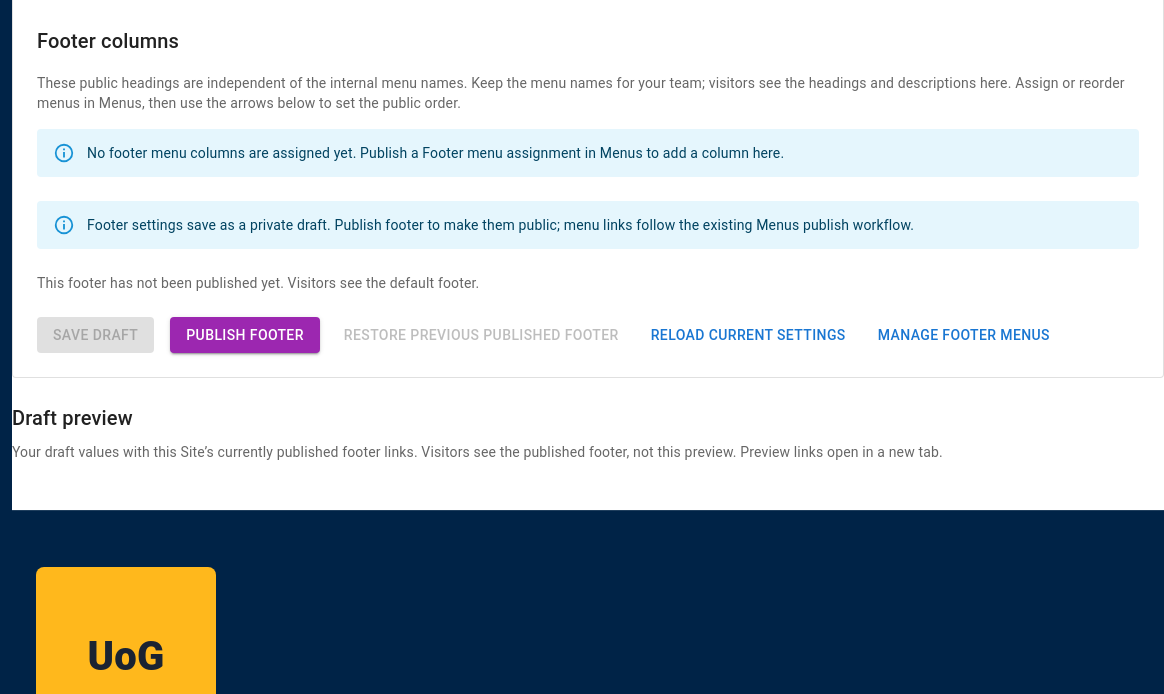
Test: publishes the saved draft only, showing warnings returned by the lint
(page scrolled)
Click the button "Publish footer" at (245, 335), box left=170, top=317, right=320, bottom=353
(page scrolled)
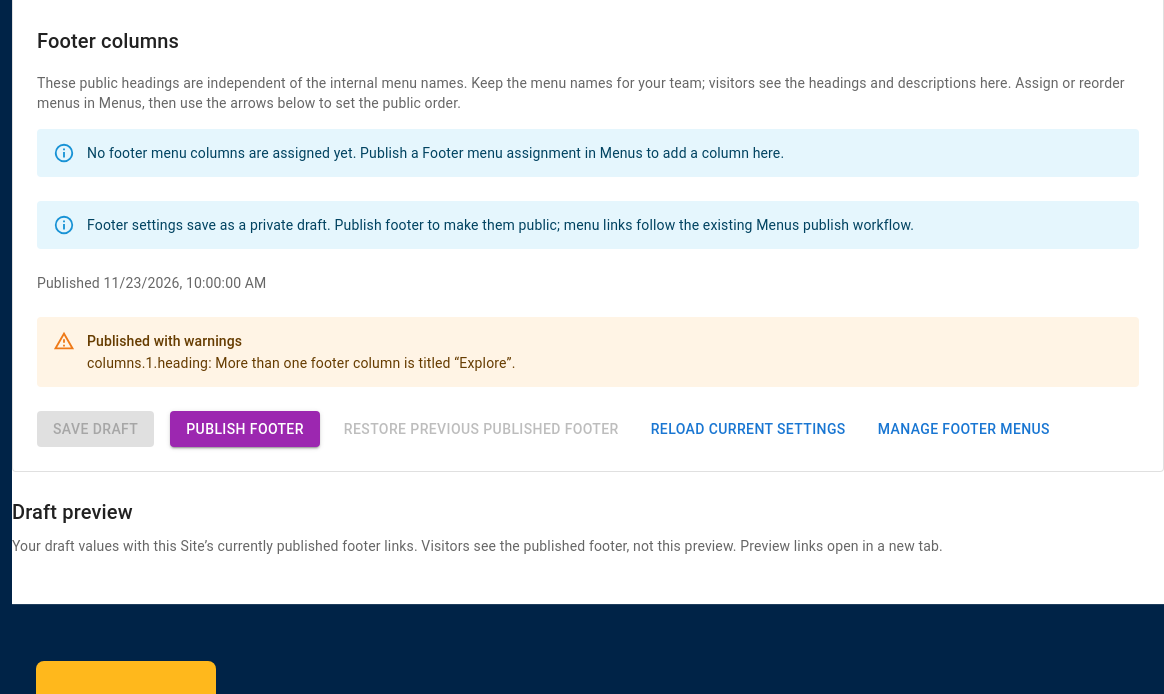
Check: the text "More than one footer column is titled" is shown, box left=215, top=355, right=516, bottom=371
